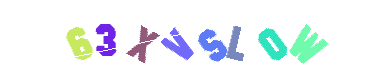3: (67, 0, 147, 80)
6: (39, 0, 119, 80)
L: (176, 0, 256, 80)
O: (232, 0, 312, 80)
S: (154, 0, 234, 80)
V: (148, 0, 228, 80)
W: (264, 0, 344, 80)
X: (102, 0, 182, 80)
